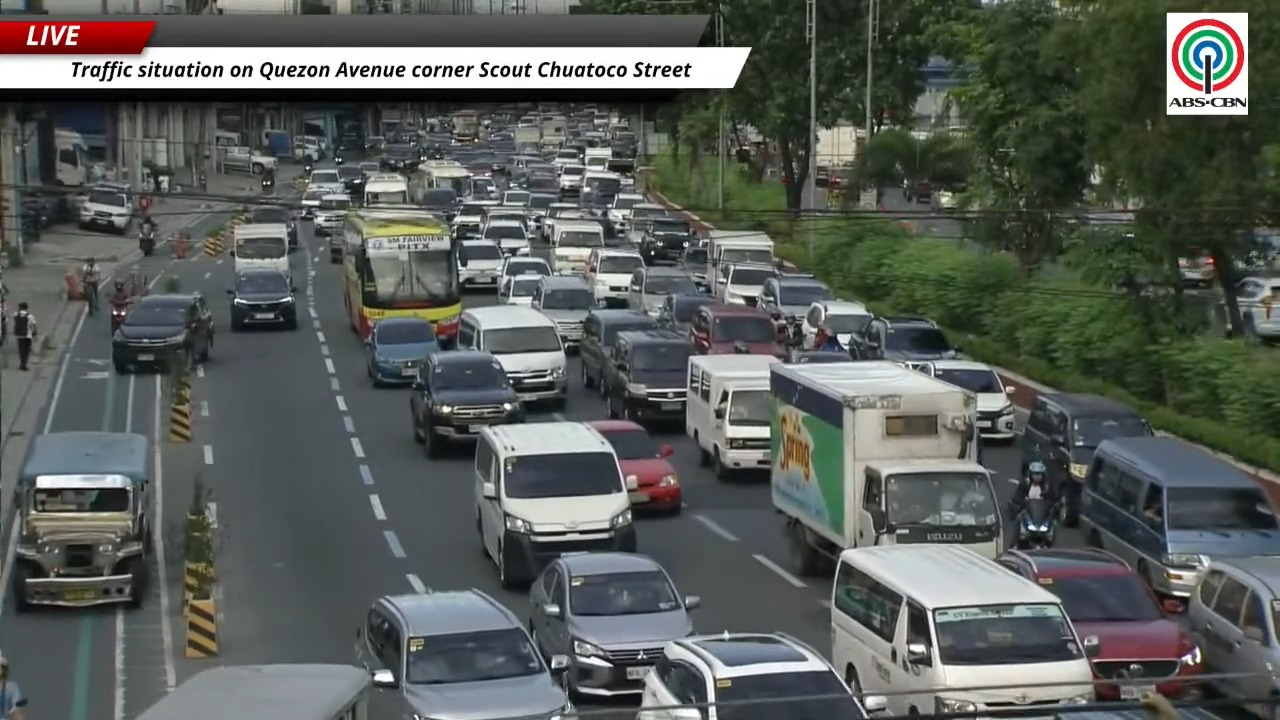bus: (343, 206, 461, 342), (138, 664, 374, 719), (414, 160, 471, 197), (360, 173, 410, 206), (450, 110, 481, 142)
car: (997, 548, 1203, 700), (355, 589, 573, 719), (529, 552, 699, 696), (637, 631, 887, 719), (1016, 393, 1153, 526), (1186, 556, 1279, 717), (410, 350, 524, 457), (590, 419, 682, 514), (601, 328, 691, 422), (112, 294, 213, 373), (918, 359, 1014, 440), (579, 308, 655, 397), (689, 302, 784, 358), (366, 317, 440, 386), (849, 316, 959, 362), (531, 276, 594, 351), (227, 268, 297, 331), (788, 299, 873, 348), (758, 275, 833, 323), (627, 266, 697, 316), (586, 249, 643, 306), (1236, 276, 1279, 341), (79, 183, 133, 234), (633, 218, 692, 264), (715, 263, 778, 306), (657, 293, 717, 332), (458, 239, 503, 288), (246, 206, 297, 249), (313, 193, 352, 248), (481, 216, 529, 254), (678, 239, 710, 293), (499, 273, 543, 306), (418, 189, 457, 221), (379, 143, 420, 172), (500, 256, 552, 278), (300, 186, 333, 219), (785, 348, 851, 363), (930, 184, 965, 211), (337, 165, 366, 197), (307, 168, 344, 191)
motorcycle: (1016, 497, 1057, 549), (82, 273, 99, 315), (110, 303, 127, 333), (139, 230, 155, 256), (261, 177, 274, 193), (303, 159, 313, 175), (335, 154, 343, 165)
truck: (769, 361, 1003, 576), (686, 354, 777, 479), (54, 128, 92, 186), (514, 126, 541, 147)
